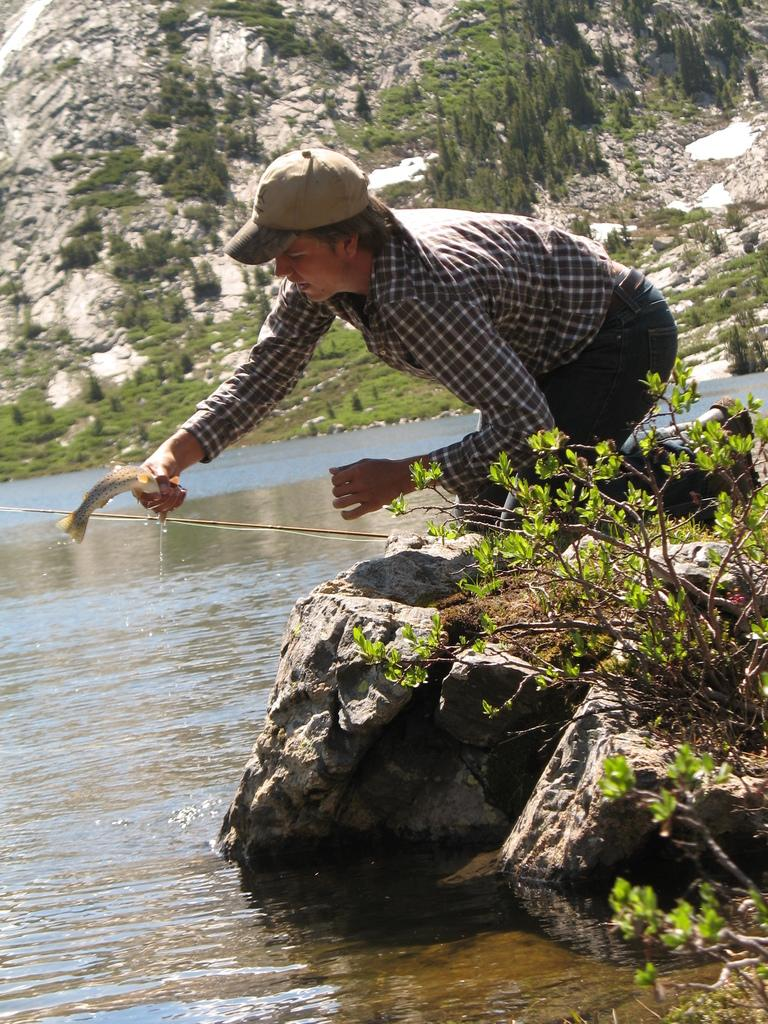Hat: (226, 147, 374, 263)
